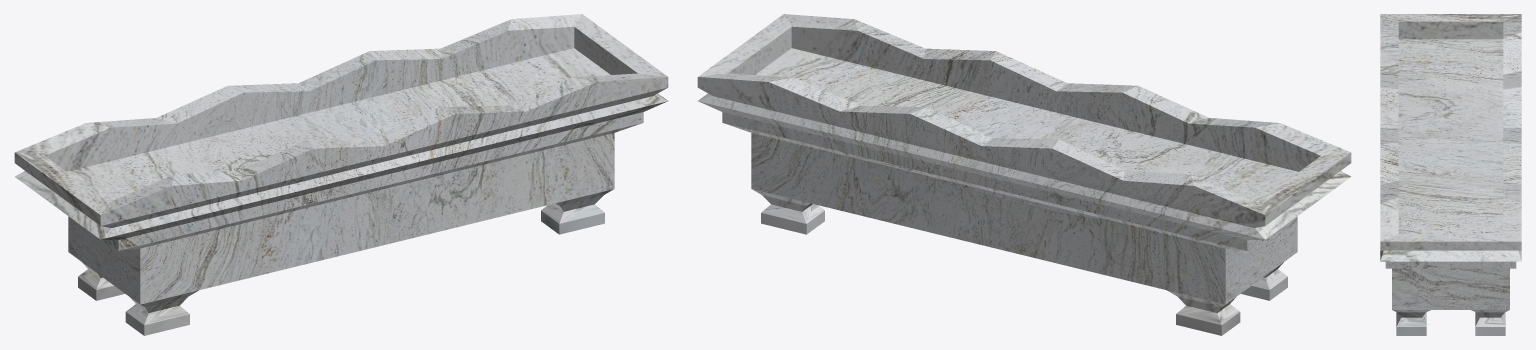
The model's file is Planter_B.fbx.
3 views of the same model, side by side, from view 1: azimuth 30°, elevation 25°; view 2: azimuth 150°, elevation 25°; view 3: azimuth 270°, elevation 25° (orthographic). The views are drawn at different scales.
Visible parts, largest first — view 1: Planter_B_LOD0; view 2: Planter_B_LOD0; view 3: Planter_B_LOD0.
Part boxes in pixels (bbox=[...]): Planter_B_LOD0: bbox=[14, 14, 668, 335]; Planter_B_LOD0: bbox=[697, 14, 1351, 335]; Planter_B_LOD0: bbox=[1380, 14, 1521, 335].
Size of what is drawn, in the model's own units: 1160 by 304 by 304.
